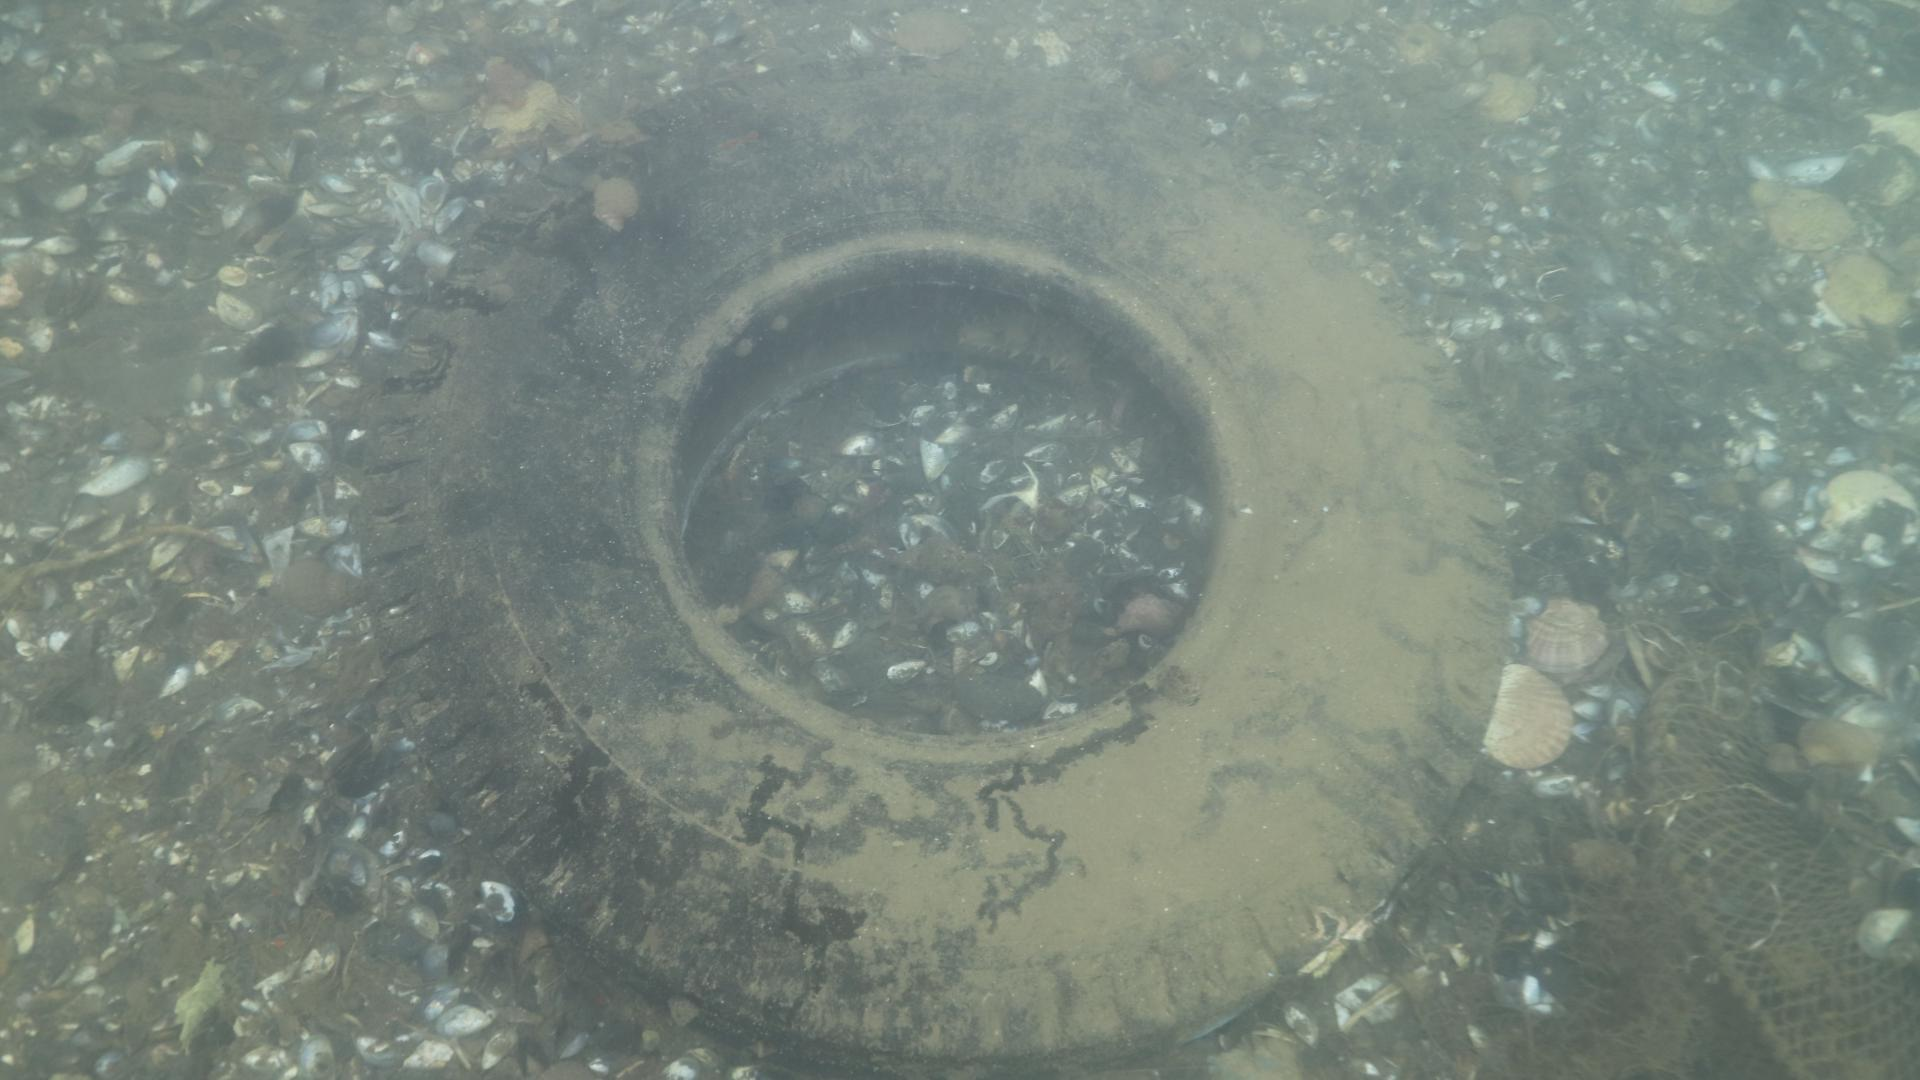tire: (375, 38, 1516, 1080)
